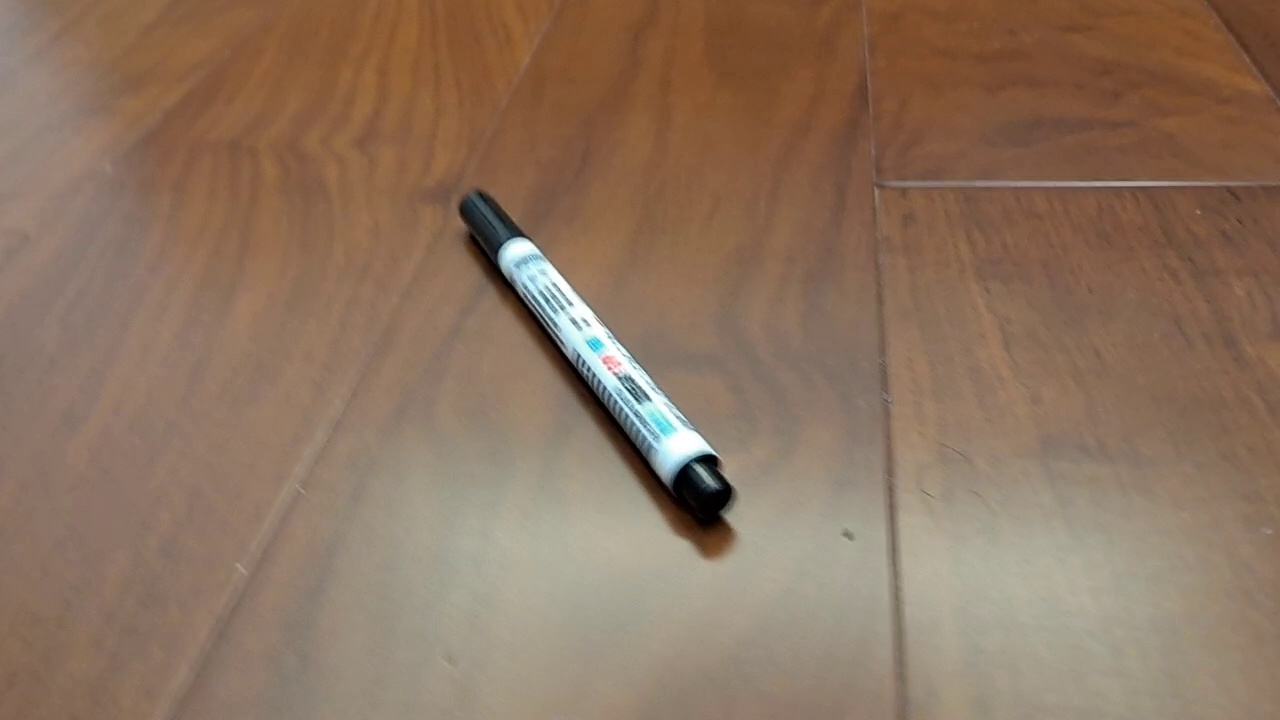pen: (457, 187, 735, 521)
